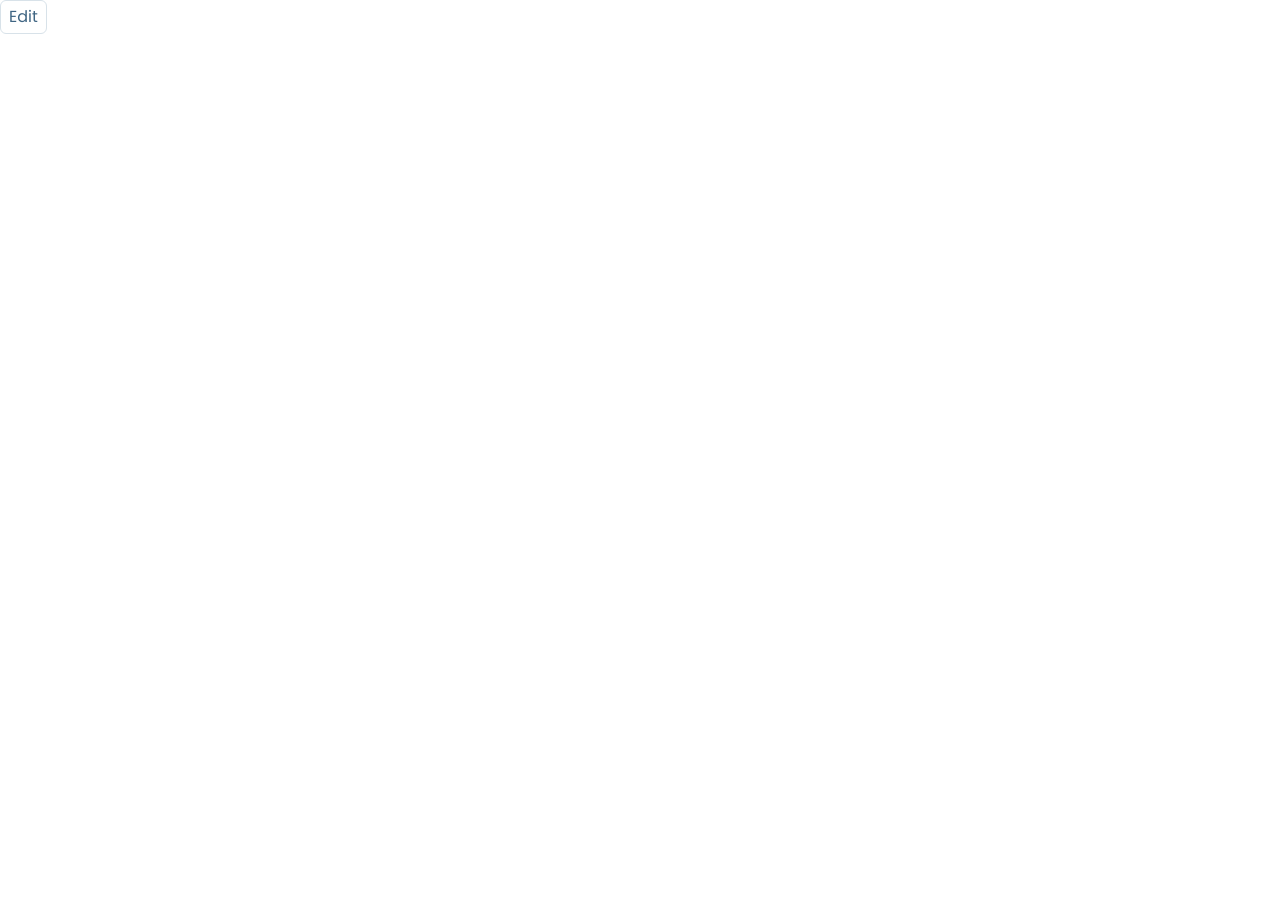
EditUpdateDialog shows admin review controls for admins and hides them for non-admins
Later steps or results of the test are not shown.
Click the button "Edit" at (23, 17), box [0,0,47,34]
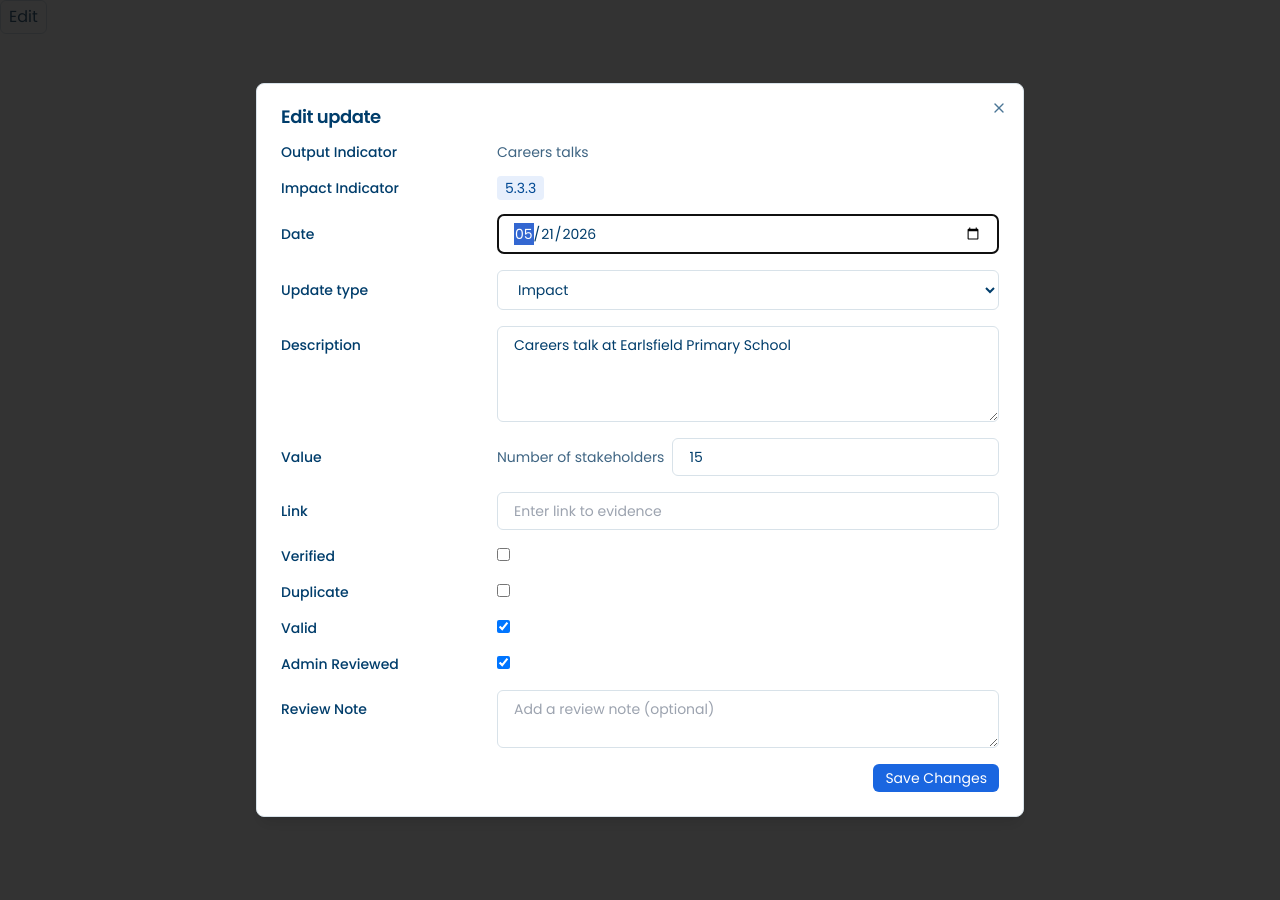
Expected: the checkbox labelled "Duplicate" is shown, [497,584,510,597]
Expected: the checkbox labelled "Admin Reviewed" is shown, [497,656,510,669]
